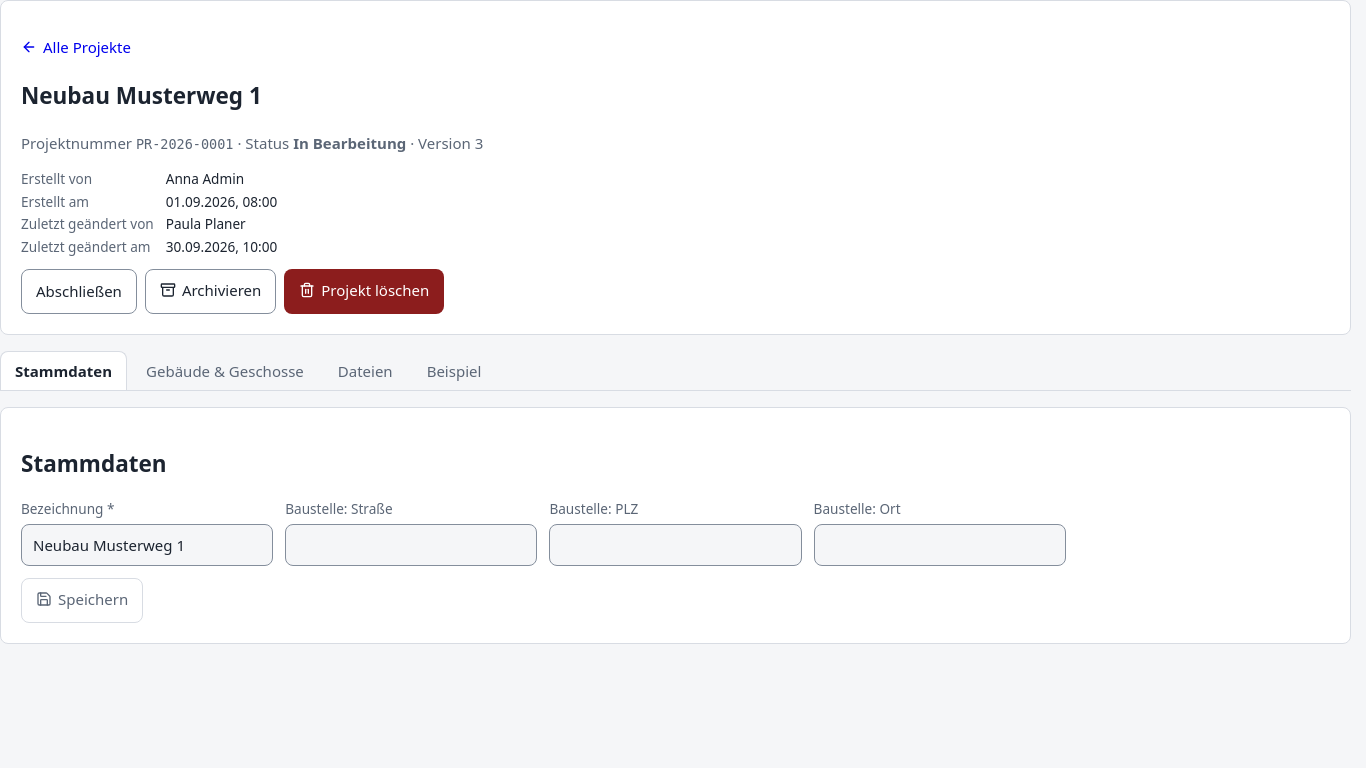
Scenario: Projekt-Tabwechsel › fragt bei ungespeicherten Änderungen und bleibt bei Ablehnung im Tab
What coordinates should you click on to do the following:
click the button "Beispiel"
I would click on:
 (454, 370)
Its box is [412,351,496,390].
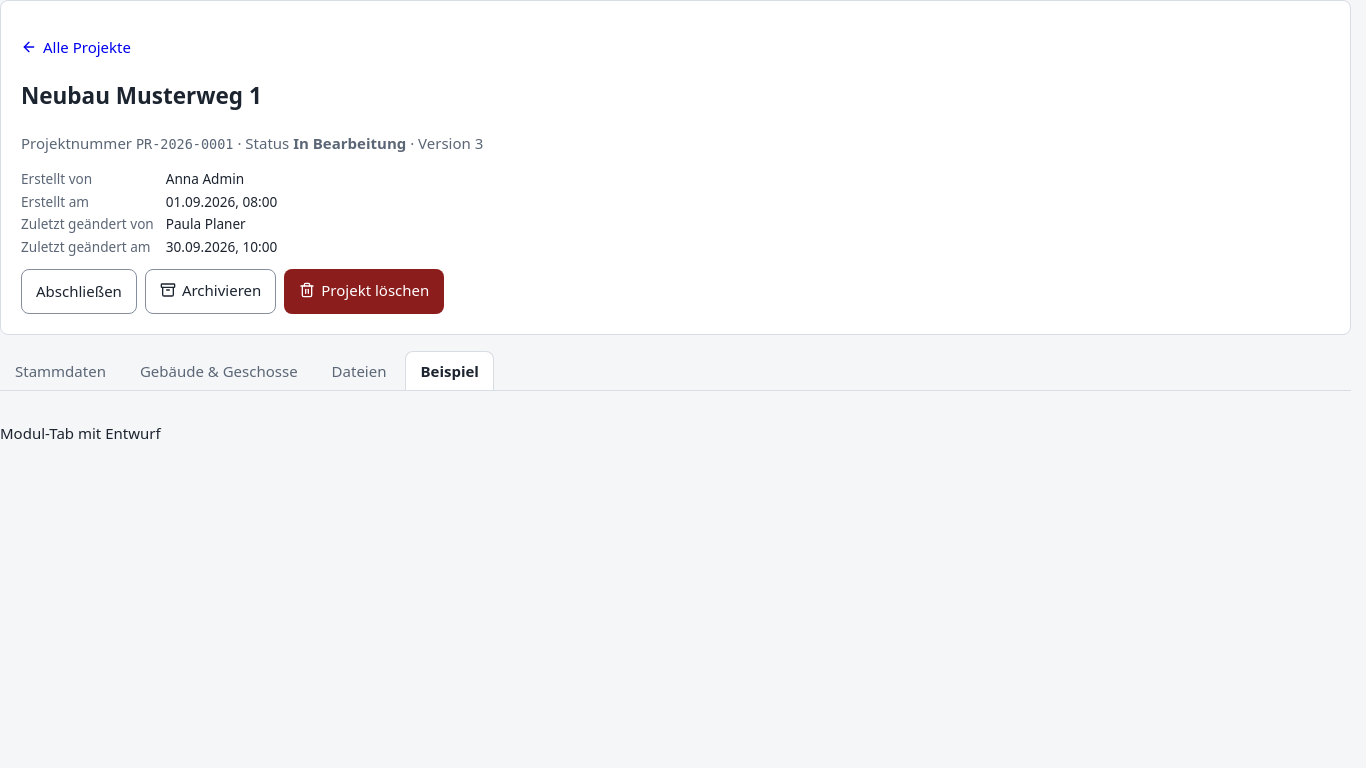
Now the text "Modul-Tab mit Entwurf" is shown, box [0,423,161,443]
What coordinates should you click on to do the following:
click the button "Dateien"
I would click on:
 (359, 370)
Its box is [317,351,401,390].
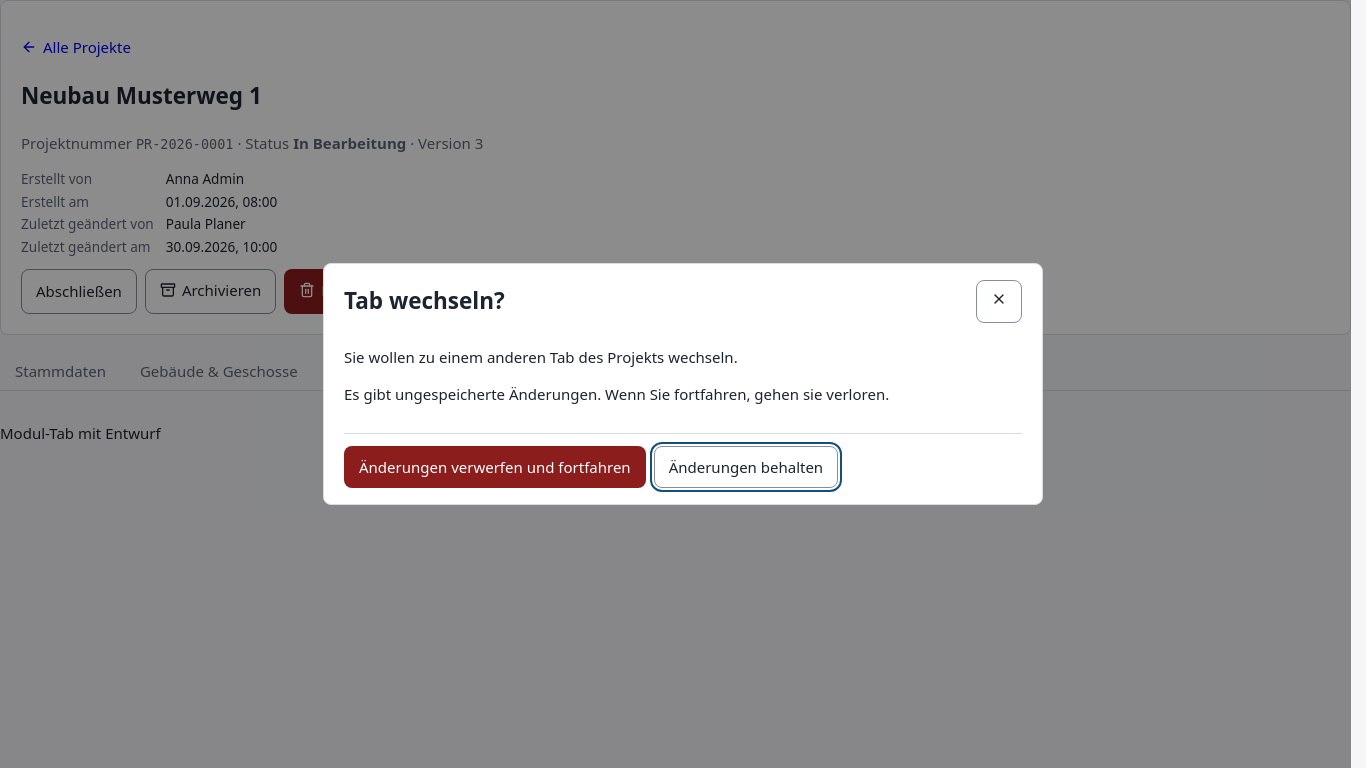
What coordinates should you click on to do the following:
click the button "Änderungen behalten"
I would click on:
 (746, 467)
Its box is [654,446,838,488].
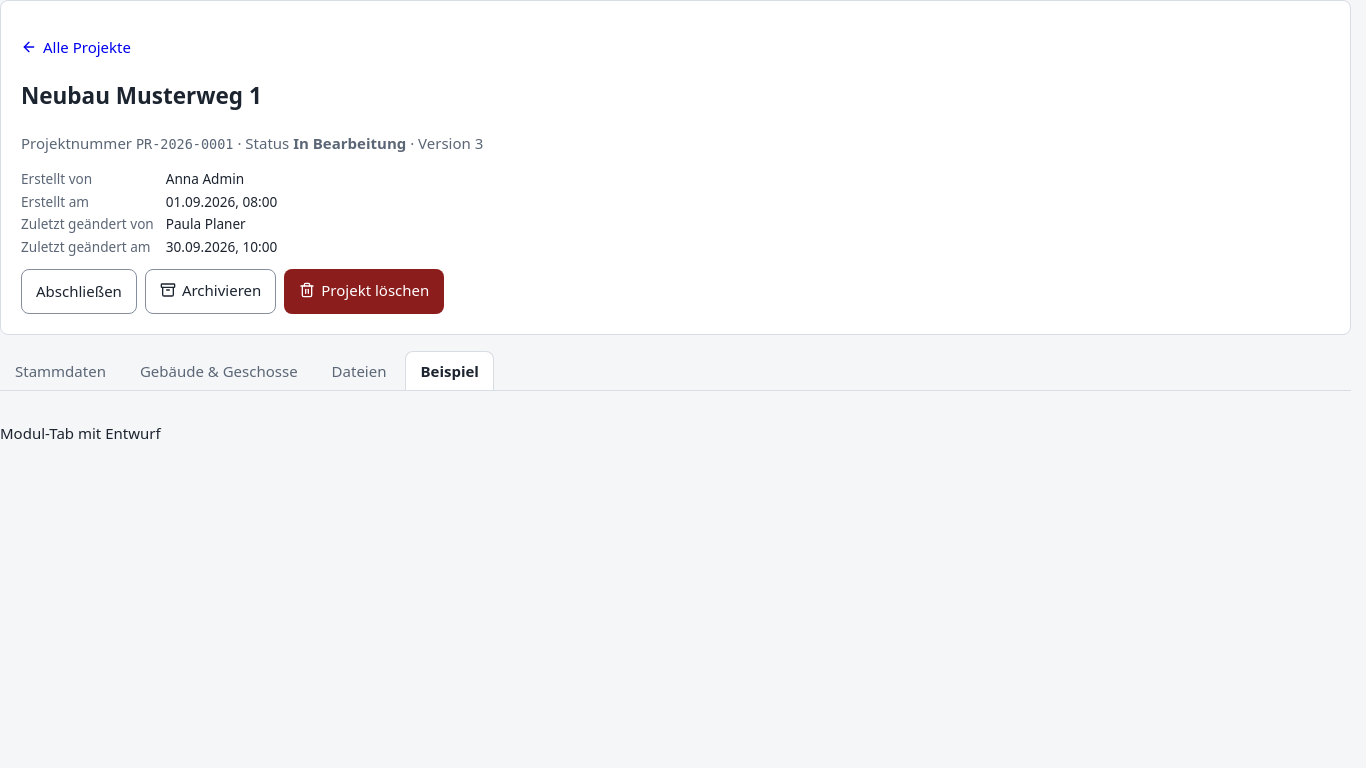
Now the text "Modul-Tab mit Entwurf" is shown, box [0,423,161,443]
Now the dialog is gone
What coordinates should you click on to do the following:
click the button "Dateien"
I would click on:
 (359, 370)
Its box is [317,351,401,390].
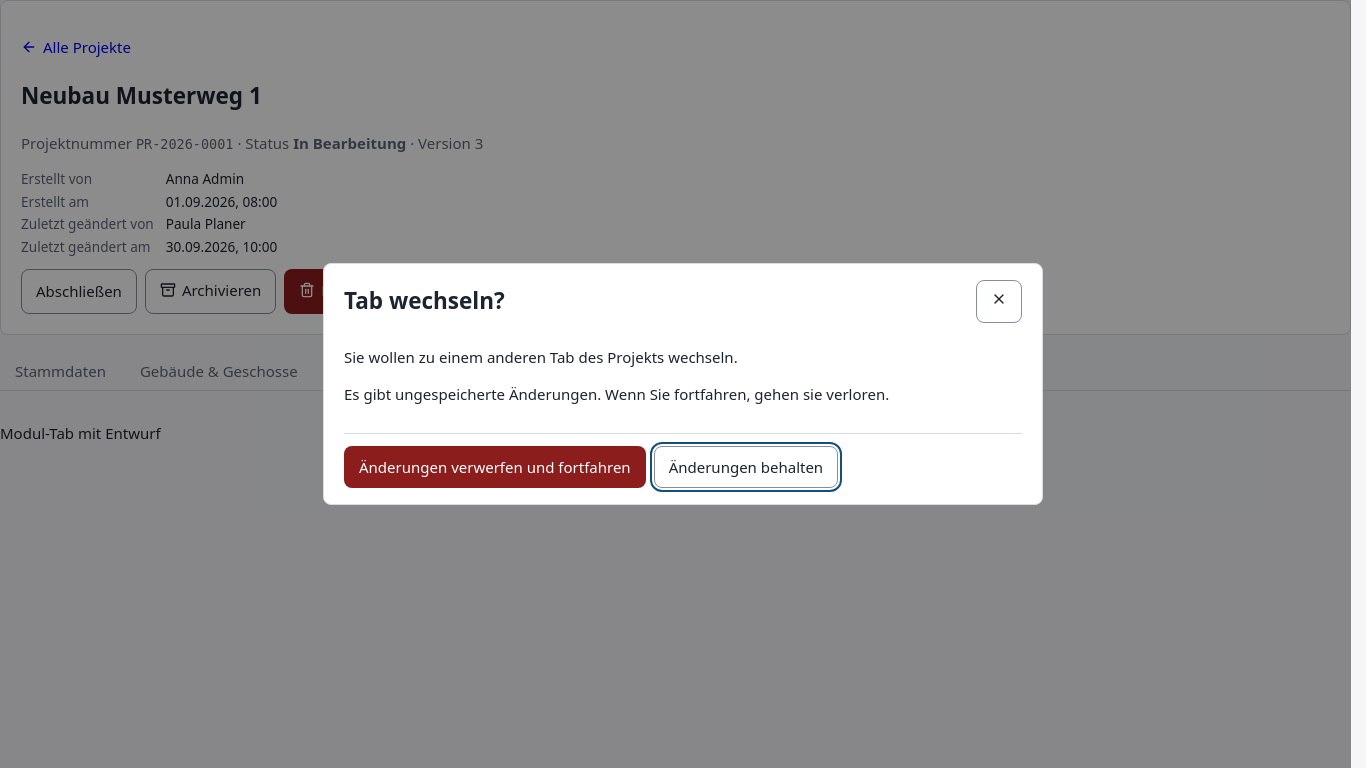
What coordinates should you click on to do the following:
click the button "Änderungen verwerfen und fortfahren"
I would click on:
 (495, 467)
Its box is [344,446,646,488].
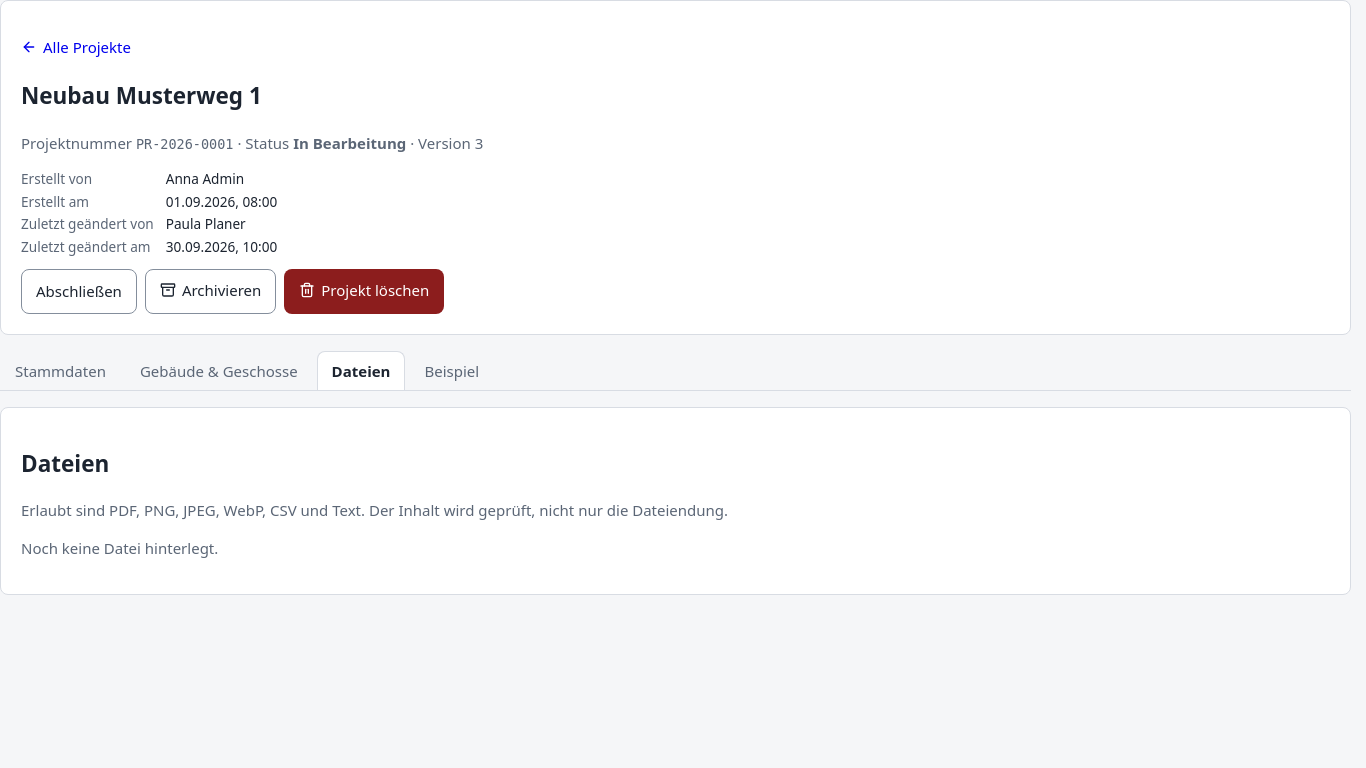
Now the text "Modul-Tab mit Entwurf" is gone
